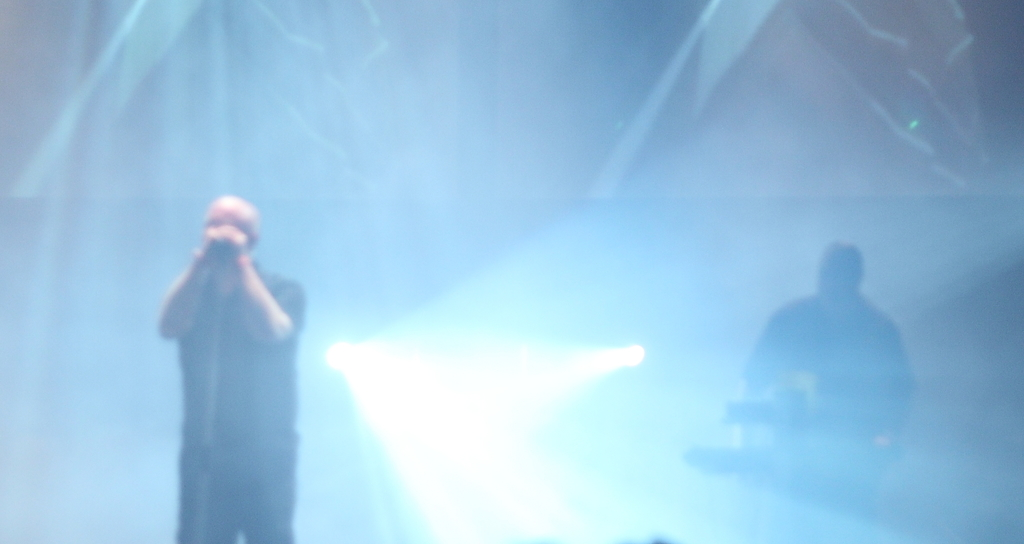Person: (157, 194, 308, 544), (741, 240, 918, 517)
